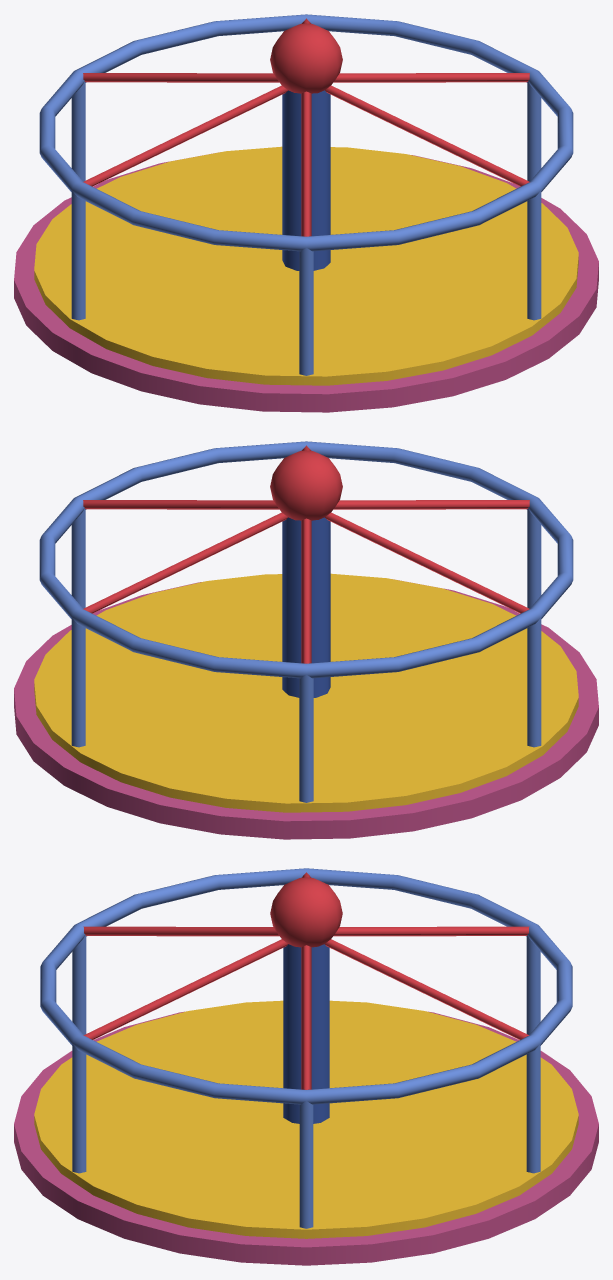
File: merry_go_round.glb
3 views of the same model, one above another, from view 1: azimuth 30°, elevation 25°; view 2: azimuth 150°, elevation 25°; view 3: azimuth 270°, elevation 25° (orthographic).
Visible parts, largest first — view 1: root; view 2: root; view 3: root.
Part boxes in pixels (x1,y1,x2,y2): root: [14, 14, 598, 412]; root: [14, 441, 598, 839]; root: [14, 868, 598, 1265].
Bounding box in the file's own units: 2.9 × 1.43 × 2.9.
